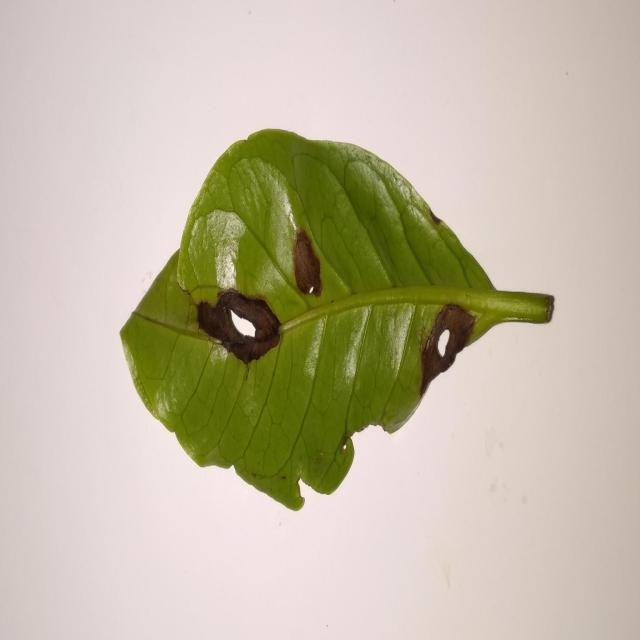Enfermedad-Antracnosis: (121, 129, 556, 513)
